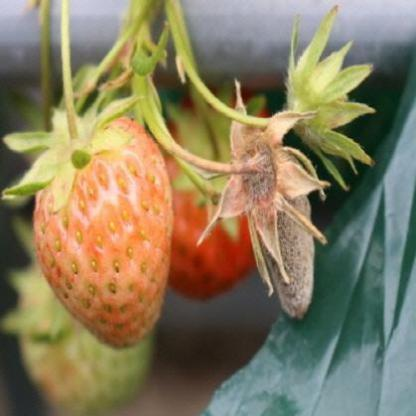Strawberry_Gray_Mold: (197, 78, 332, 320)
